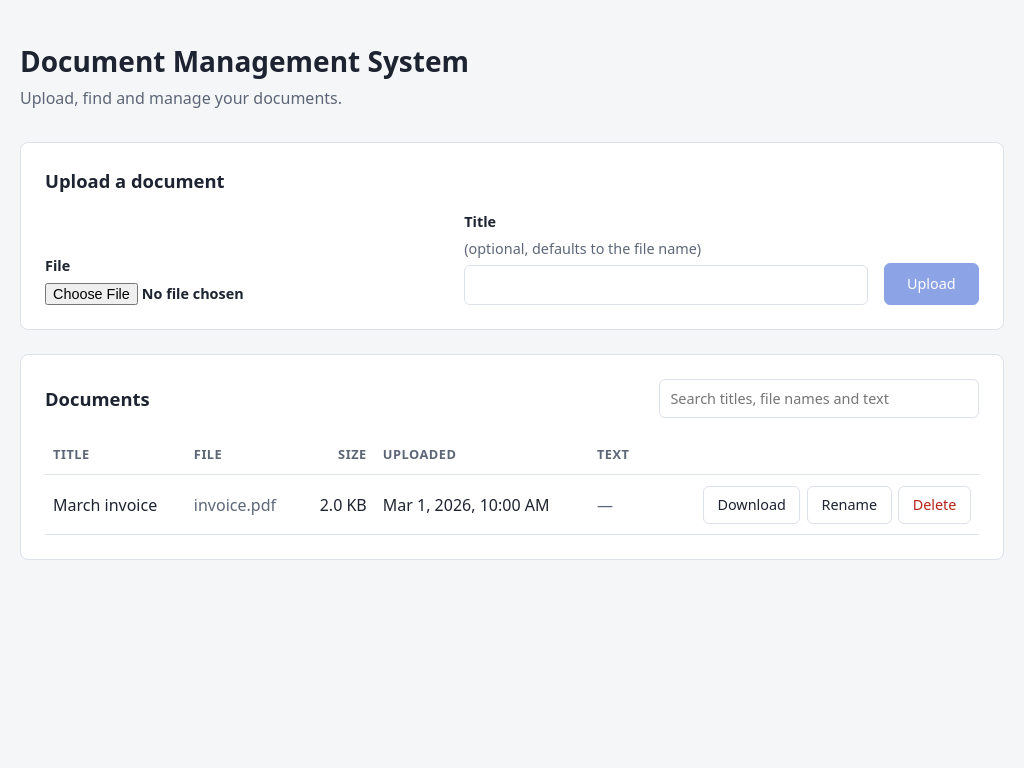
Test: App › shows search snippets with the matched words highlighted
Expected: the text "March invoice" is shown, [45,475,186,534]
Type "betrag" into the search field named "Search documents".
click(819, 398); type("betrag")  # box [659,379,979,418]
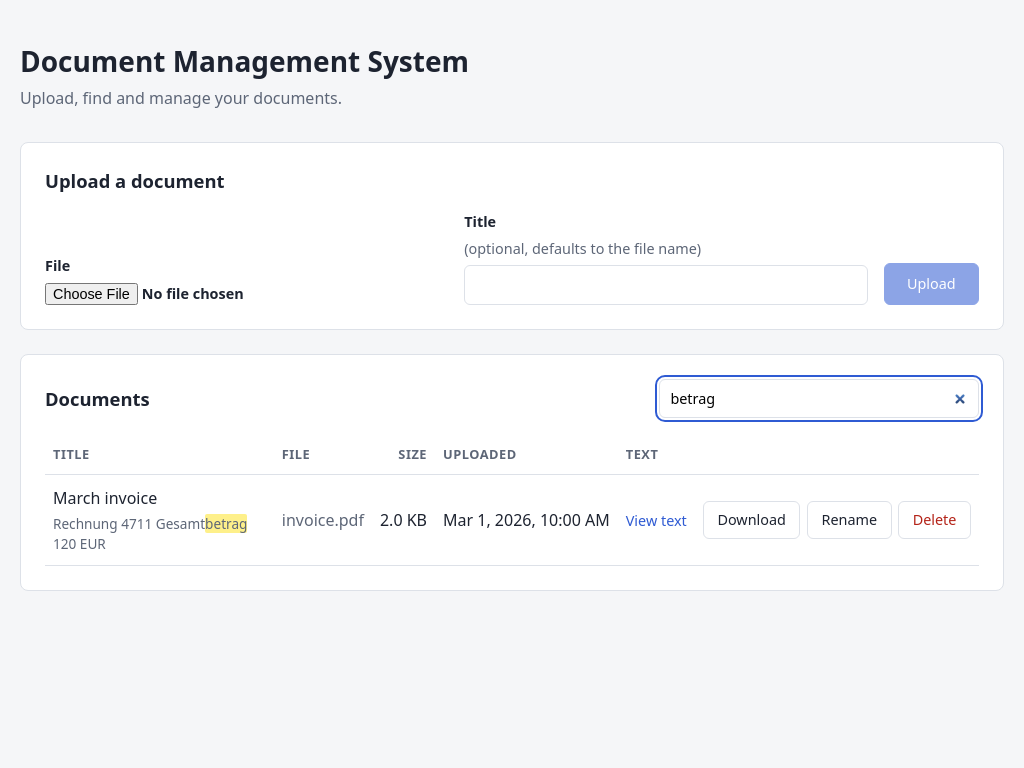
Now the text "betrag" reads "Rechnung 4711 Gesamtbetrag 120 EUR", box [53,514,266,554]
